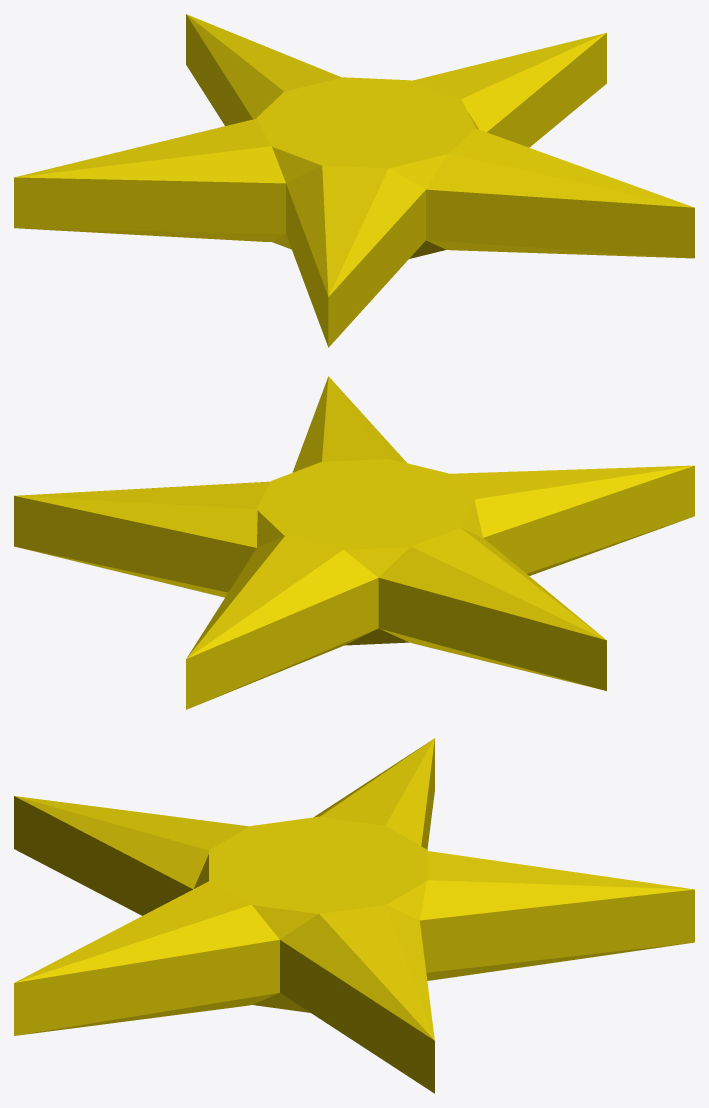
File: star.fbx
3 renders of one model, top to bottom at view 1: azimuth 30°, elevation 25°; view 2: azimuth 150°, elevation 25°; view 3: azimuth 270°, elevation 25°, orthographic. The views are drawn at different scales.
Visible parts, largest first — view 1: Circle; view 2: Circle; view 3: Circle.
Part boxes in pixels (box(x1,y1,x2,y2)): Circle: box(14, 14, 694, 347); Circle: box(14, 376, 694, 709); Circle: box(14, 738, 694, 1093).
Bounding box in the file's own units: 190 × 29.42 × 181.
